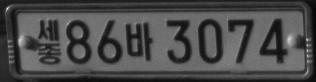0: (196, 17, 224, 63)
3: (165, 18, 192, 63)
4: (259, 18, 288, 64)
6: (97, 18, 123, 64)
7: (226, 18, 254, 64)
8: (65, 18, 92, 64)
바: (125, 21, 153, 61)
세종_V: (37, 19, 61, 65)
